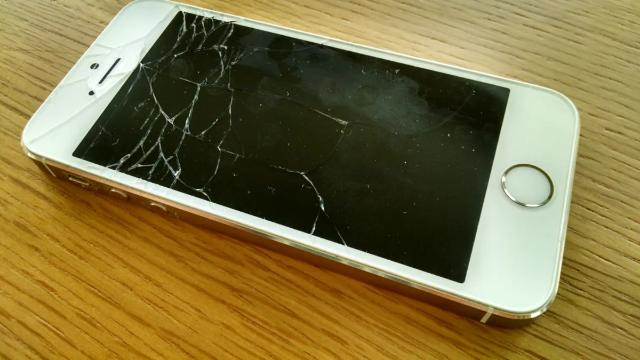Crack: (24, 0, 244, 212), (251, 50, 385, 262)
